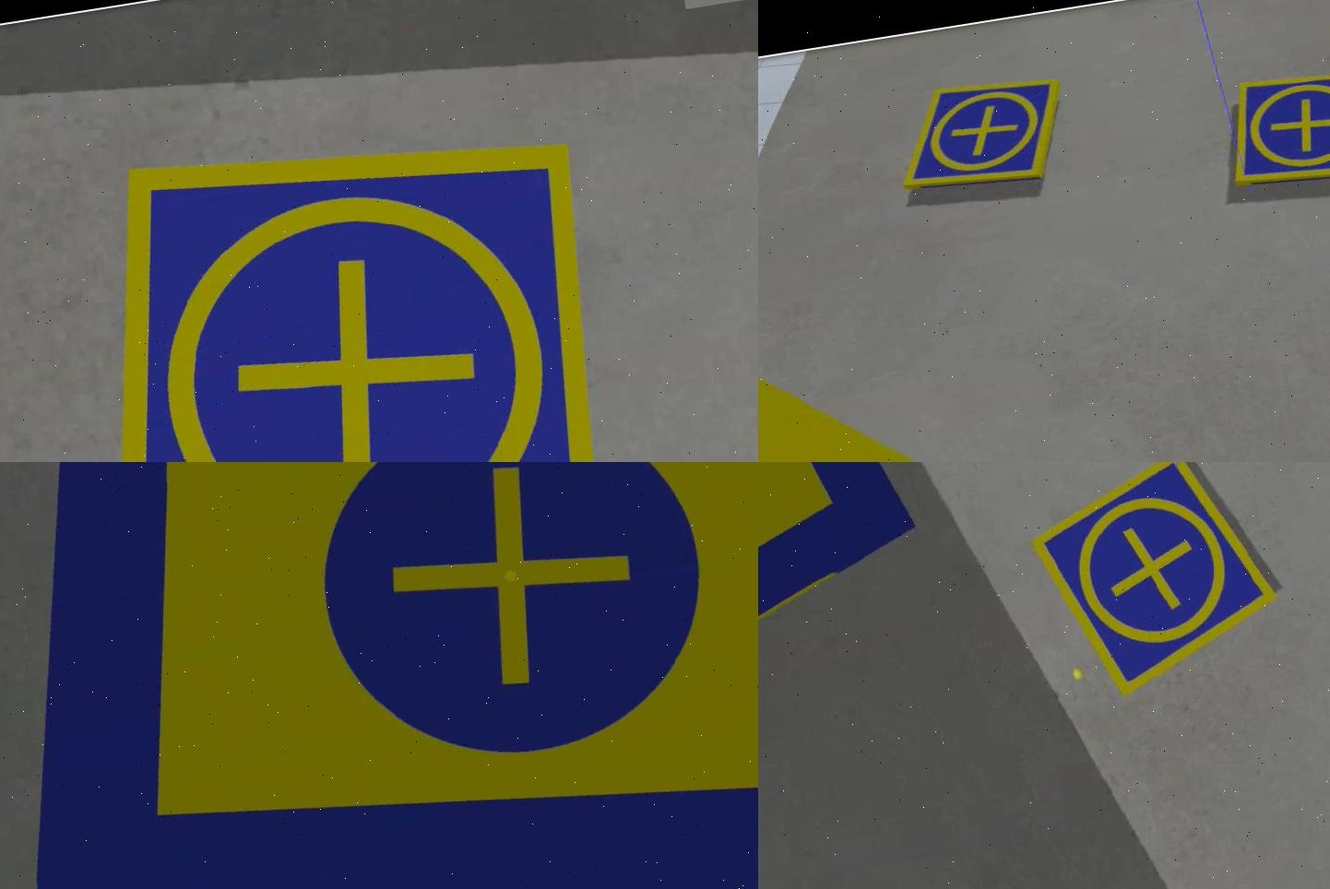large_base: (0, 462, 756, 889), (756, 462, 942, 735)
small_base: (48, 101, 637, 462), (1018, 462, 1293, 705), (889, 70, 1074, 205), (1215, 63, 1328, 197)
